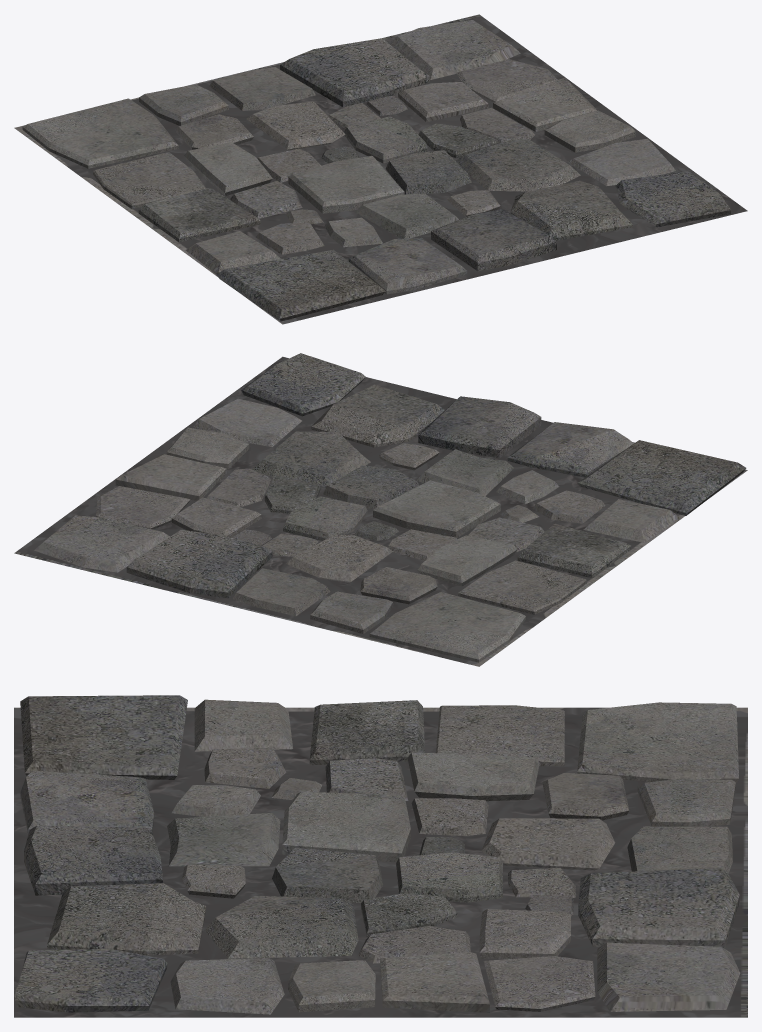
Rendered from Floor4v1.fbx.
The picture shows the model from 3 angles, top to bottom: view 1: azimuth 30°, elevation 25°; view 2: azimuth 150°, elevation 25°; view 3: azimuth 270°, elevation 25°; orthographic projection. The views are drawn at different scales.
Parts seen in each view (by area): view 1: Floor4v1; view 2: Floor4v1; view 3: Floor4v1.
Part boxes in pixels (bbox=[...]): Floor4v1: bbox=[14, 14, 747, 324]; Floor4v1: bbox=[14, 353, 747, 666]; Floor4v1: bbox=[14, 695, 747, 1017].
Size of the model in its own units: 3.02 by 0.0989 by 3.
1 material, 1 textured.
